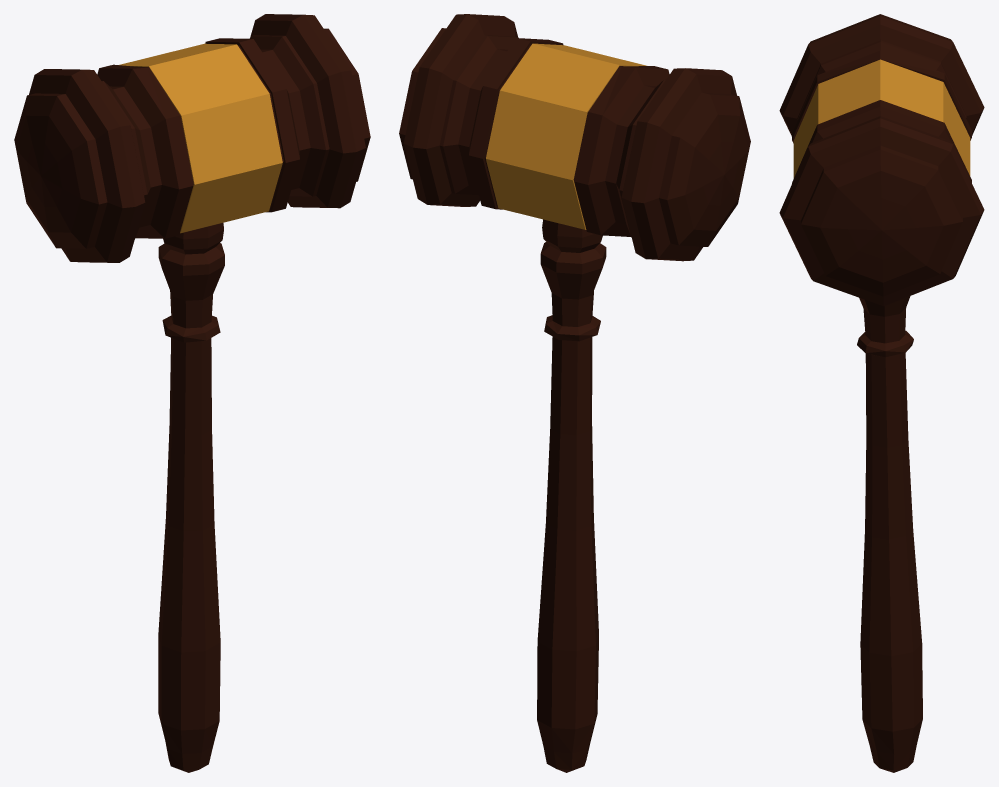
The model's file is Gavel_v2_UVnTextured.FBX.
The picture shows the model from 3 angles, left to right: view 1: azimuth 30°, elevation 25°; view 2: azimuth 150°, elevation 25°; view 3: azimuth 270°, elevation 25°; orthographic projection. The views are drawn at different scales.
Parts seen in each view (by area): view 1: Gavel_v2; view 2: Gavel_v2; view 3: Gavel_v2.
Part boxes in pixels (bbox=[...]): Gavel_v2: bbox=[14, 14, 370, 772]; Gavel_v2: bbox=[399, 14, 750, 772]; Gavel_v2: bbox=[779, 14, 984, 772].
Size of the model in its own units: 20.38 by 47.37 by 12.49.
